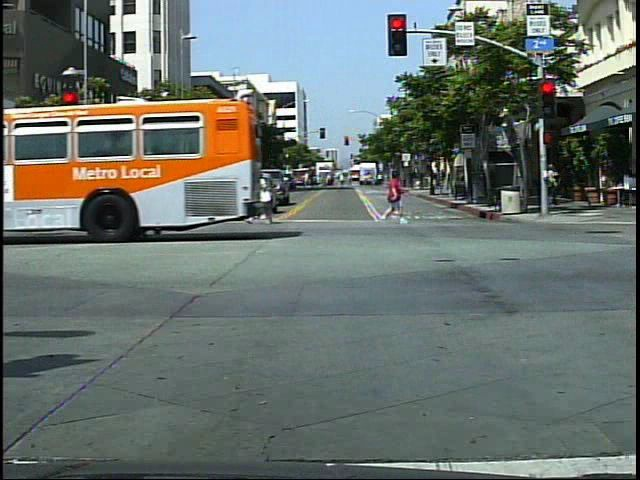person: (140, 169, 171, 235), (250, 166, 281, 230), (382, 167, 407, 228), (546, 161, 564, 212)
